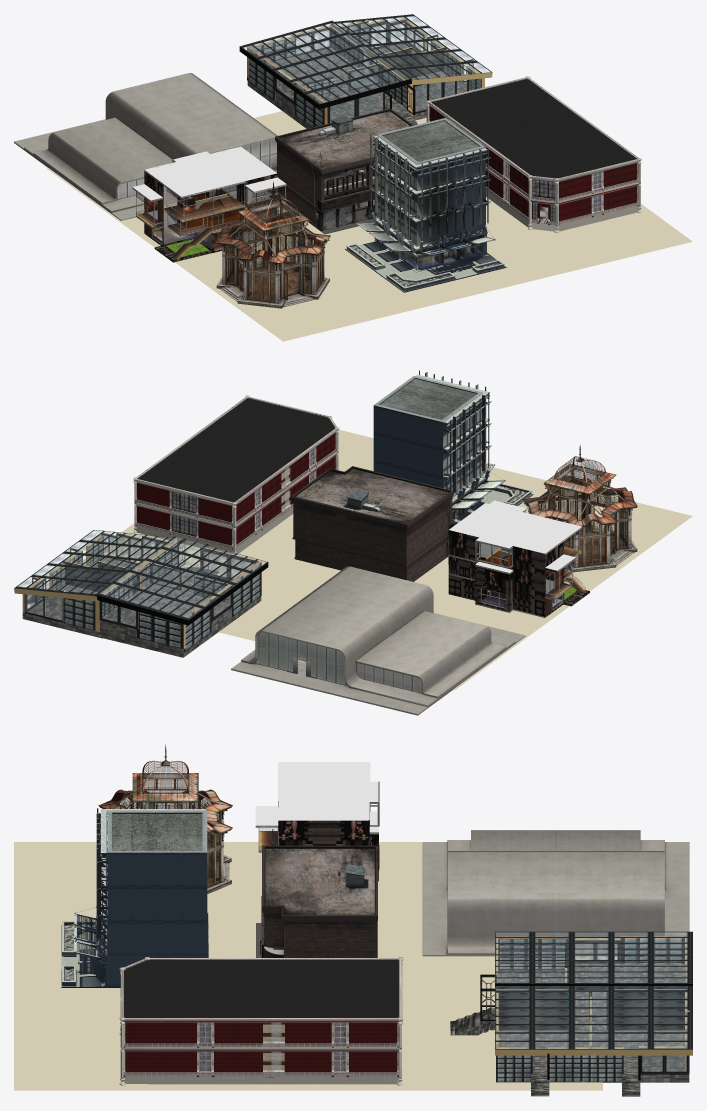
The picture shows the model from 3 angles, top to bottom: view 1: azimuth 30°, elevation 25°; view 2: azimuth 150°, elevation 25°; view 3: azimuth 270°, elevation 25°; orthographic projection. The views are drawn at different scales.
Visible parts, largest first — view 1: prim0-mesh (×20), Eros Store 01. Mai 2011, _Fanatik Architecture_ WAVE double (×5), roofl glass house (×2), Dolphin 3 story home-furnished, Terrain 8,8, Terrain 9,8, Building (×5), Cafe Pavillion (×2), Glass House, wall glass house (×4), GLASS HOUSE lower floor extension (+10 smaller); view 2: _Fanatik Architecture_ WAVE double (×8), Eros Store 01. Mai 2011, prim0-mesh (×10), roofl glass house (×2), Building (×3), Dolphin 3 story home-furnished, Terrain 9,9, Terrain 8,8, Cafe Pavillion (×2), Glass House, Terrain 8,9, wall glass house (×3) (+10 smaller); view 3: Eros Store 01. Mai 2011, _Fanatik Architecture_ WAVE double (×6), roofl glass house (×2), prim0-mesh (×8), Terrain 8,8, Terrain 9,8, Building (×2), Terrain 9,9, wall glass house (×6), Dolphin 3 story home-furnished, Terrain 8,9, GLASS HOUSE lower floor extension (+8 smaller).
Part boxes in pixels (left/top/right/bottom): prim0-mesh (×20): left=222, top=118, right=506, bottom=303; Eros Store 01. Mai 2011: left=426, top=76, right=641, bottom=233; _Fanatik Architecture_ WAVE double (×5): left=24, top=73, right=277, bottom=212; roofl glass house (×2): left=239, top=14, right=492, bottom=109; Dolphin 3 story home-furnished: left=132, top=146, right=286, bottom=262; Terrain 8,8: left=175, top=222, right=487, bottom=341; Terrain 9,8: left=468, top=197, right=692, bottom=291; Building (×5): left=275, top=108, right=413, bottom=228; Cafe Pavillion (×2): left=216, top=212, right=330, bottom=308; Glass House: left=247, top=48, right=380, bottom=121; wall glass house (×4): left=291, top=25, right=442, bottom=115; GLASS HOUSE lower floor extension: left=368, top=40, right=471, bottom=120; _Fanatik Architecture_ WAVE double (×8): left=231, top=566, right=515, bottom=715; Eros Store 01. Mai 2011: left=133, top=395, right=339, bottom=554; prim0-mesh (×10): left=373, top=374, right=631, bottom=567; roofl glass house (×2): left=14, top=530, right=268, bottom=625; Building (×3): left=291, top=466, right=453, bottom=581; Dolphin 3 story home-furnished: left=448, top=500, right=589, bottom=617; Terrain 9,9: left=46, top=523, right=340, bottom=639; Terrain 8,8: left=432, top=466, right=692, bottom=590; Cafe Pavillion (×2): left=522, top=475, right=637, bottom=572; Glass House: left=100, top=583, right=233, bottom=657; Terrain 8,9: left=249, top=568, right=569, bottom=689; wall glass house (×3): left=95, top=541, right=177, bottom=632; Eros Store 01. Mai 2011: left=119, top=957, right=403, bottom=1085; _Fanatik Architecture_ WAVE double (×6): left=422, top=830, right=689, bottom=956; roofl glass house (×2): left=495, top=931, right=692, bottom=1055; prim0-mesh (×8): left=61, top=744, right=220, bottom=987; Terrain 8,8: left=14, top=842, right=261, bottom=966; Terrain 9,8: left=14, top=966, right=308, bottom=1090; Building (×2): left=262, top=845, right=377, bottom=957; Terrain 9,9: left=308, top=966, right=602, bottom=1090; wall glass house (×6): left=496, top=938, right=689, bottom=1082; Dolphin 3 story home-furnished: left=255, top=762, right=379, bottom=881; Terrain 8,9: left=377, top=842, right=602, bottom=966; GLASS HOUSE lower floor extension: left=498, top=1030, right=689, bottom=1082.
Bounding box in the file's own units: 131 × 35.85 × 148.
Materials: 377 (374 with a texture image).
